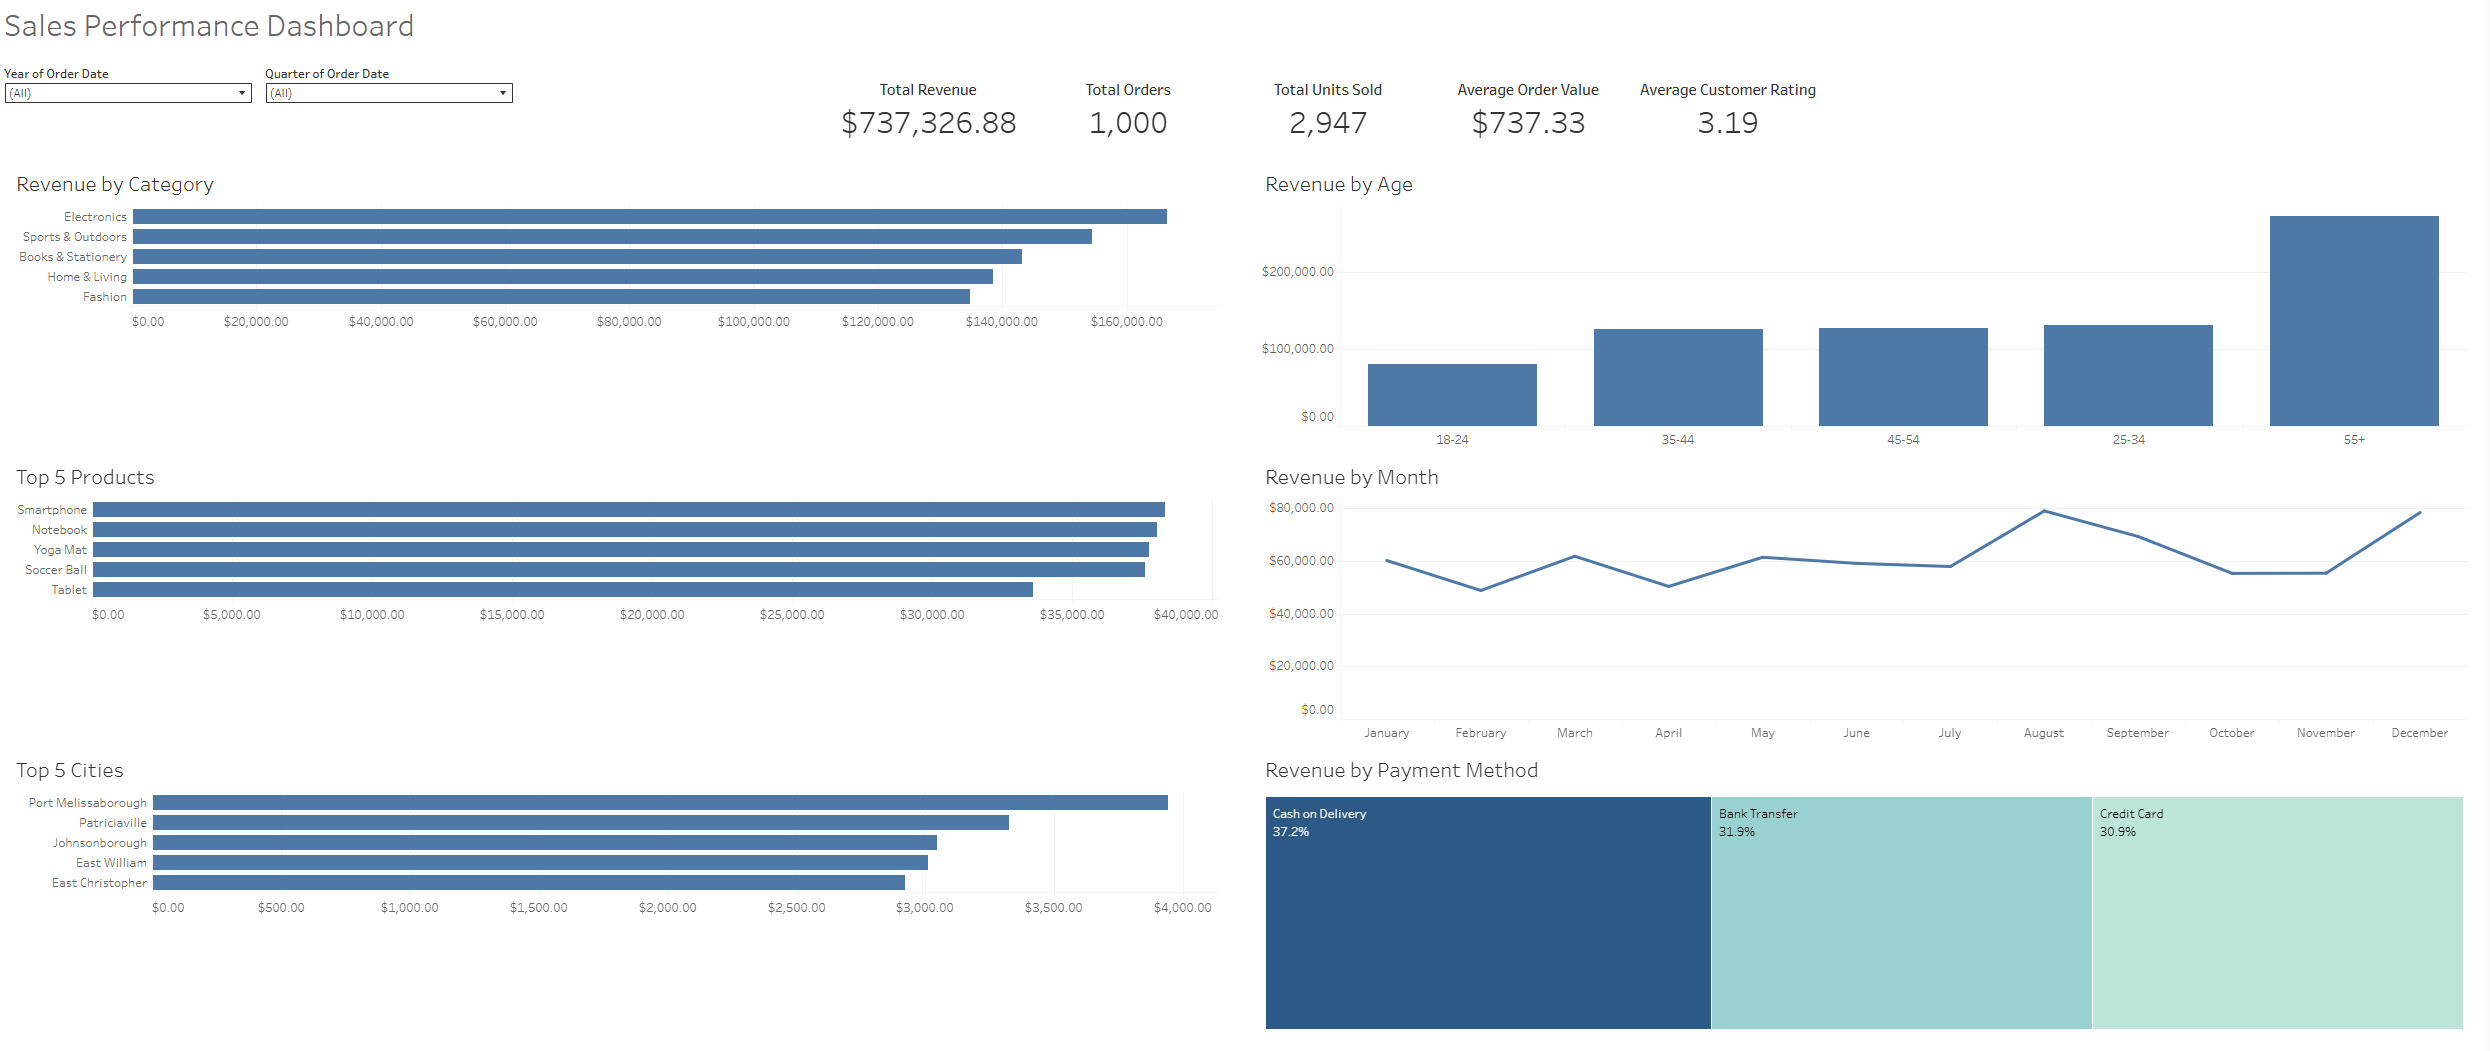

Layout of this report page (visuals, bound fields, positions):
{"tool":"tableau","page":{"name":"Sales Dashboard","canvas":[1000,1000],"units":"permille","ordinal":0},"visuals":[{"type":"text","box":[2.4,13.1,281.6,58.4]},{"type":"worksheet","title":"Year Filter","mark":"Automatic","box":[663.7,46.3,203.2,111.7]},{"type":"worksheet","title":"KPIs","mark":"Automatic","box":[332.7,74.5,657.8,81.5]},{"type":"filter","title":"Year Filter","param":"[federated.0oq2j1u1bl6ym512o13u21an5trg].[yr:order_date:ok]","box":[2.4,78.5,99.8,57.3]},{"type":"filter","title":"Quarter Filter","param":"[federated.0oq2j1u1bl6ym512o13u21an5trg].[qr:order_date:ok]","box":[107,78.5,99.8,57.3]},{"type":"worksheet","title":"Revenue by Category","mark":"Automatic","rows":["category_name"],"cols":["Calculation_1026407475253248"],"box":[4.3,165.6,486.6,269.1]},{"type":"worksheet","title":"Revenue by Age","mark":"Automatic","rows":["Calculation_1026407475253248"],"cols":["Calculation_0150646542872576"],"box":[504.5,165.6,486.6,269.1]},{"type":"worksheet","title":"Quarter Filter","mark":"Automatic","box":[23.2,207.2,333.3,333]},{"type":"worksheet","title":"Top 5 Products","mark":"Automatic","rows":["product_name"],"cols":["Calculation_1026407475253248"],"box":[4.3,434.7,486.6,269.1]},{"type":"worksheet","title":"Revenue by Month","mark":"Automatic","rows":["Calculation_1026407475253248"],"cols":["order_date"],"box":[504.5,434.7,486.6,269.1]},{"type":"worksheet","title":"Top 5 Cities","mark":"Automatic","rows":["city"],"cols":["Calculation_1026407475253248"],"box":[4.3,703.8,486.6,268.3]},{"type":"worksheet","title":"Revenue by Payment Method","mark":"Automatic","box":[504.5,703.8,486.6,268.3]}]}

Visuals, with their boxes on the dashboard's canvas, which has no fixed pixel size, in thousandths of its width and height (x1, y1, x2, y2). These are canvas units, not pixel positions in the 2490x1051 screenshot, which may show the page scaled, cropped or inside an application window:
text: select_region(2, 13, 284, 72)
"Year Filter" worksheet: select_region(664, 46, 867, 158)
"KPIs" worksheet: select_region(333, 74, 990, 156)
"Year Filter" filter: select_region(2, 78, 102, 136)
"Quarter Filter" filter: select_region(107, 78, 207, 136)
"Revenue by Category" worksheet: select_region(4, 166, 491, 435)
"Revenue by Age" worksheet: select_region(504, 166, 991, 435)
"Quarter Filter" worksheet: select_region(23, 207, 356, 540)
"Top 5 Products" worksheet: select_region(4, 435, 491, 704)
"Revenue by Month" worksheet: select_region(504, 435, 991, 704)
"Top 5 Cities" worksheet: select_region(4, 704, 491, 972)
"Revenue by Payment Method" worksheet: select_region(504, 704, 991, 972)
